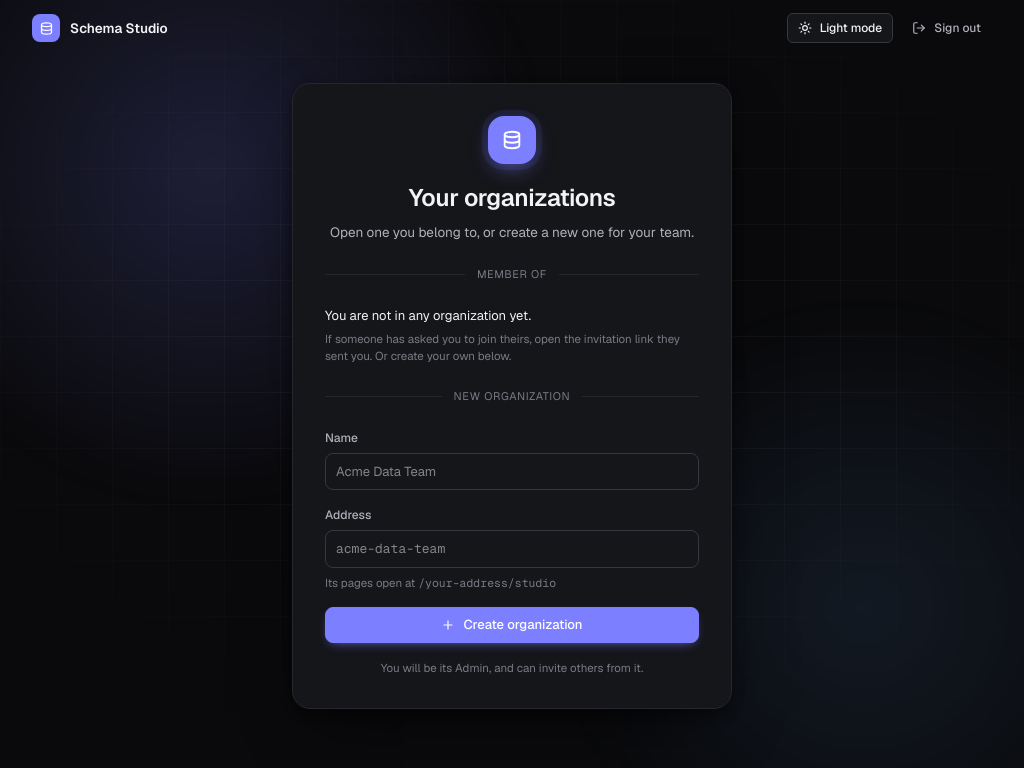
Scenario: the address › takes capitals as the lowercase letters an address is made of
Type "Acme-OPS" into the field labelled "Address" at (512, 549), box x1=325 y1=530 x2=699 y2=568
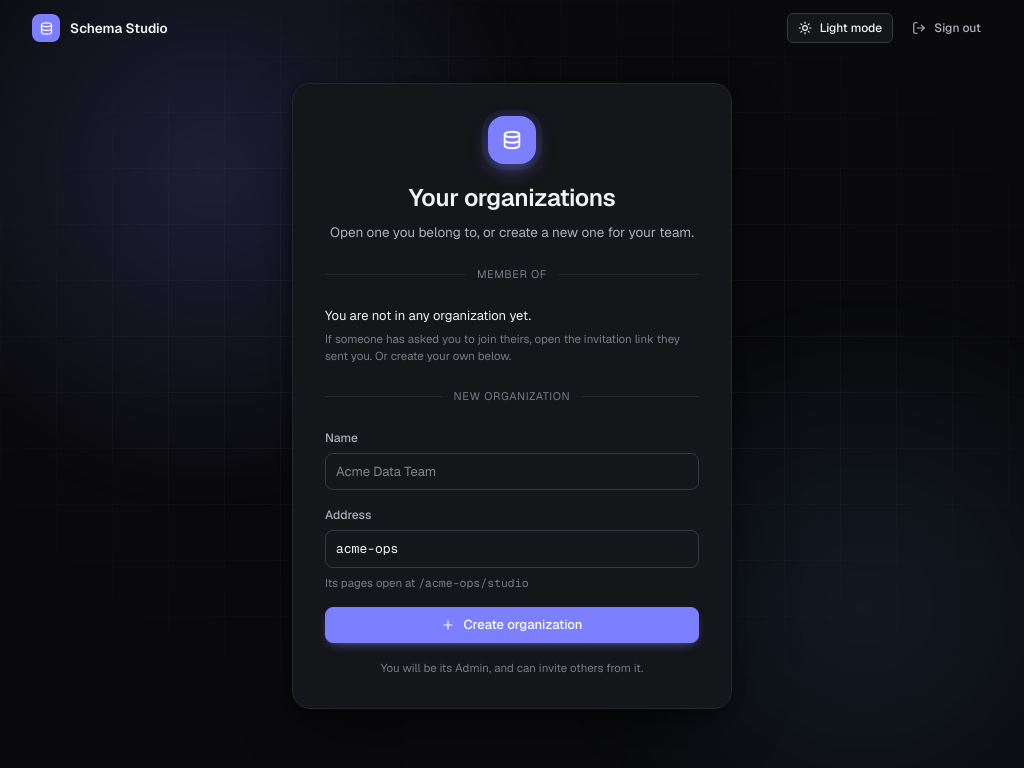
Check: the text "/acme-ops/studio" is shown, box x1=418 y1=575 x2=528 y2=590
